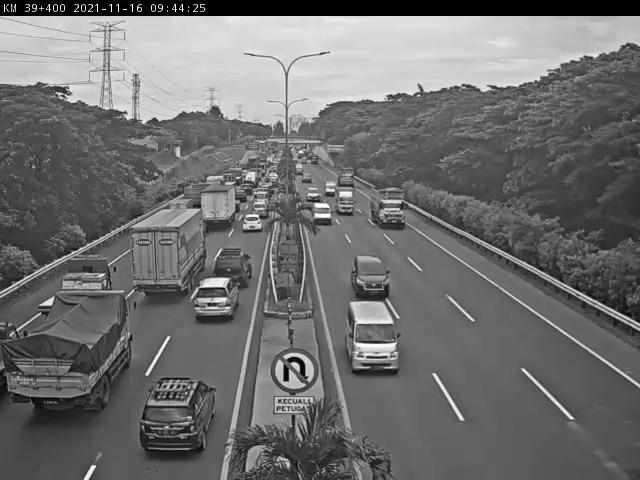car: (136, 372, 227, 462), (341, 295, 409, 379), (339, 248, 406, 299), (211, 232, 259, 292), (188, 275, 243, 326), (240, 211, 267, 237), (313, 201, 334, 224), (303, 183, 322, 203), (323, 177, 338, 198)
truck-l-: (122, 201, 209, 301), (369, 188, 410, 231), (335, 162, 361, 190)
truck-m-: (2, 280, 146, 416), (49, 251, 125, 303), (200, 182, 242, 232), (332, 184, 357, 217)
